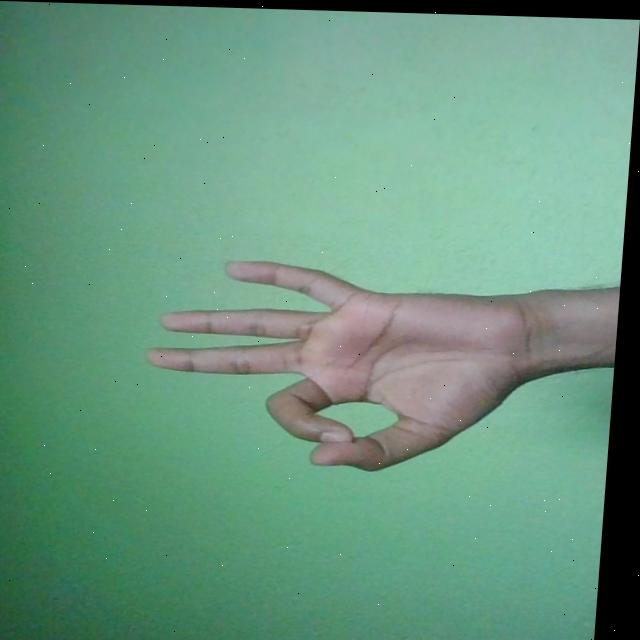Ok: (140, 256, 552, 473)
